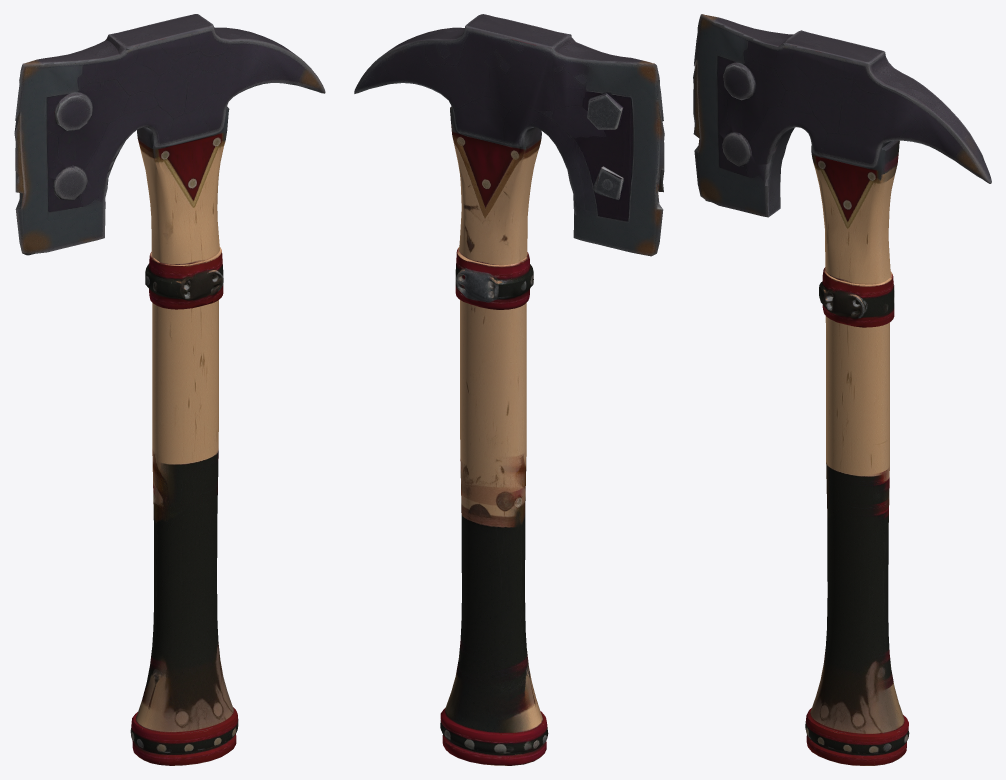
Rendered from trail_hatchet.glb.
The picture shows the model from 3 angles, left to right: view 1: azimuth 30°, elevation 25°; view 2: azimuth 150°, elevation 25°; view 3: azimuth 330°, elevation 25°; orthographic projection. The views are drawn at different scales.
Size of the model in its own units: 0.8531 by 1.9 by 0.2139.
1 material, 1 textured.
